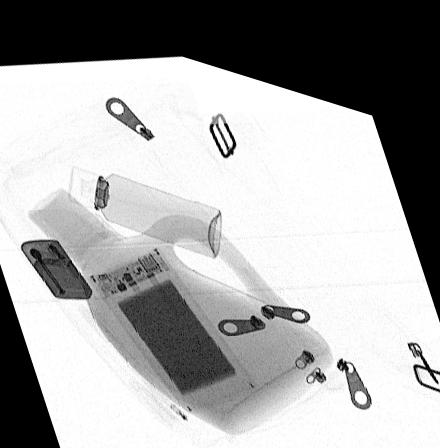Lighter: (20, 237, 94, 295)
Powerbank: (87, 238, 257, 403)
Sprayer: (68, 161, 222, 246)
